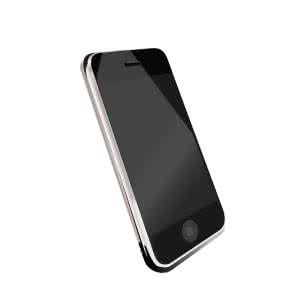phone: (78, 46, 229, 268)
